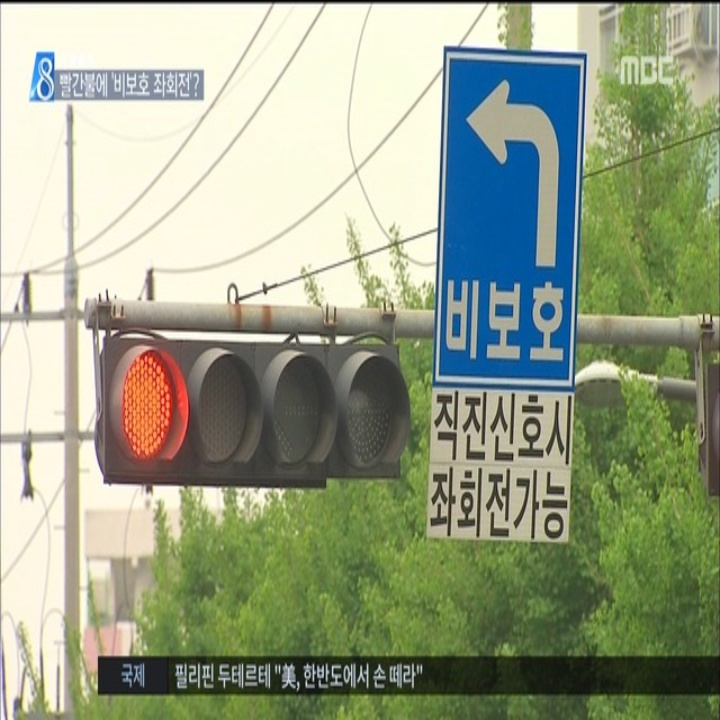left: (462, 74, 573, 273)
